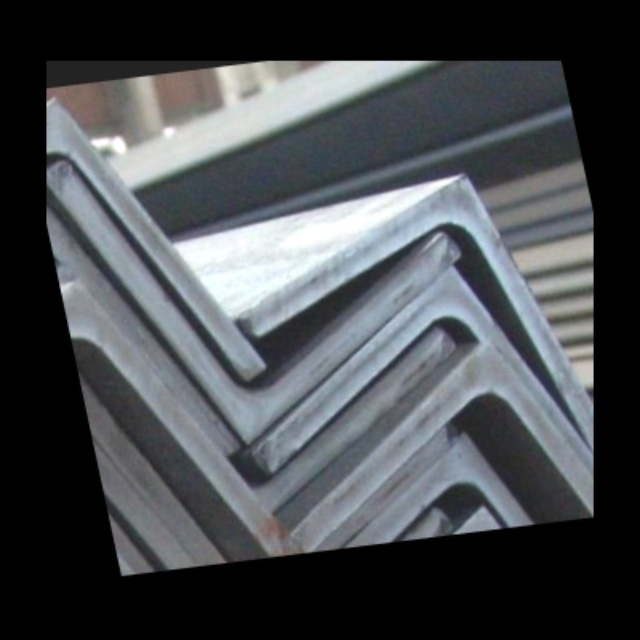Angle: (66, 145, 470, 432), (238, 186, 594, 474), (242, 282, 594, 545), (79, 336, 452, 576), (279, 354, 594, 552), (67, 300, 282, 573), (46, 106, 245, 374), (101, 443, 431, 576), (48, 214, 218, 453), (262, 452, 592, 557), (85, 390, 220, 576), (102, 475, 192, 576)
